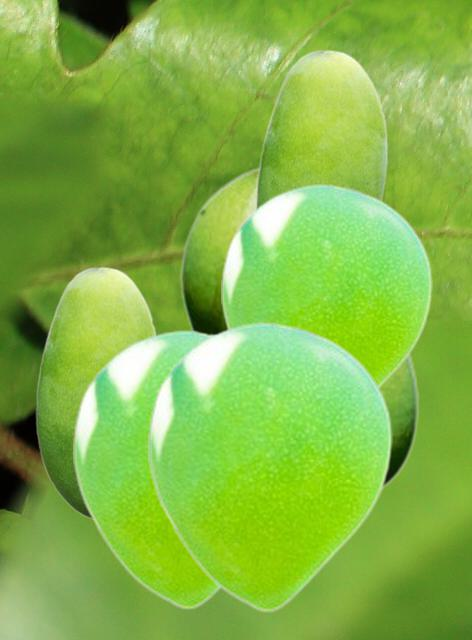green_mango: (179, 165, 417, 492), (148, 321, 391, 612), (221, 183, 431, 387), (73, 329, 220, 609), (35, 266, 157, 520), (255, 49, 387, 208)
